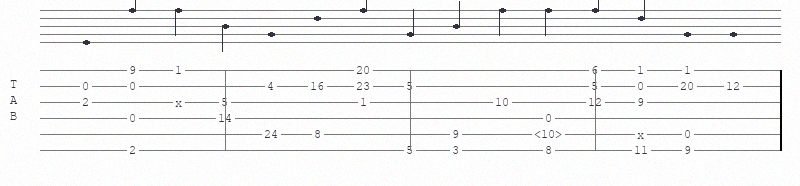0: (82, 80, 93, 92), (129, 112, 140, 124), (129, 80, 140, 92), (545, 112, 556, 124), (637, 80, 648, 92), (684, 128, 695, 140)
1: (175, 64, 186, 76), (360, 96, 371, 108), (637, 64, 648, 76), (684, 64, 695, 76)
10: (495, 96, 513, 108)
11: (634, 144, 652, 156)
12: (588, 96, 606, 108), (726, 80, 744, 92)
14: (218, 112, 236, 124)
16: (310, 80, 328, 92)
2: (82, 96, 93, 108), (129, 144, 140, 156)
20: (356, 64, 374, 76), (680, 80, 698, 92)
23: (356, 80, 374, 92)
24: (264, 128, 282, 140)
3: (452, 144, 463, 156)
4: (267, 80, 278, 92)
5: (221, 96, 232, 108), (406, 80, 417, 92), (406, 144, 417, 156), (591, 80, 602, 92)
6: (591, 64, 602, 76)
8: (314, 128, 325, 140), (545, 144, 556, 156)
9: (129, 64, 140, 76), (452, 128, 463, 140), (637, 96, 648, 108), (684, 144, 695, 156)
harmonic: (534, 128, 566, 141)
x: (175, 97, 186, 107), (637, 129, 648, 139)
